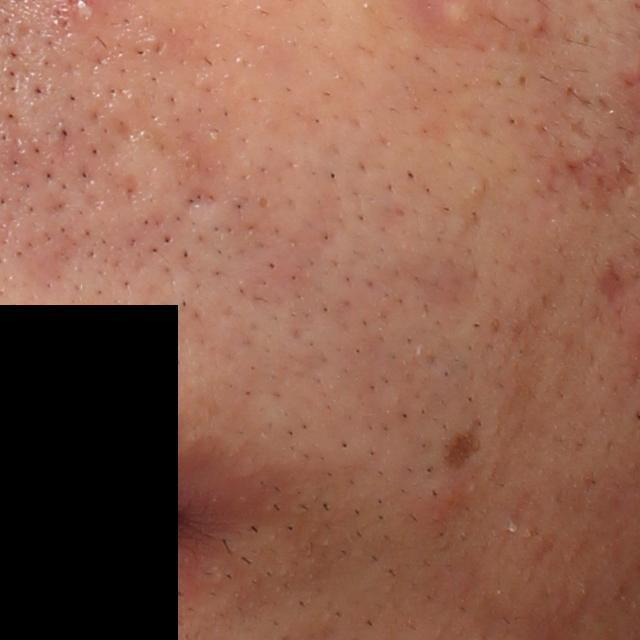atrophic_scar: (148, 123, 235, 188), (593, 250, 625, 306), (182, 182, 222, 217), (567, 115, 592, 141)
comedo: (461, 177, 489, 202)
nevus: (431, 424, 485, 475)
papule: (416, 480, 464, 531)
